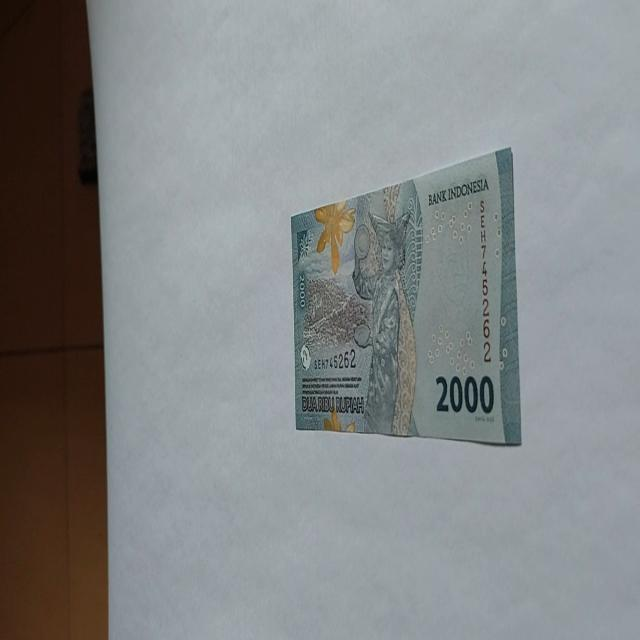dua ribu rupiah: (290, 144, 521, 446), (351, 208, 418, 434)
